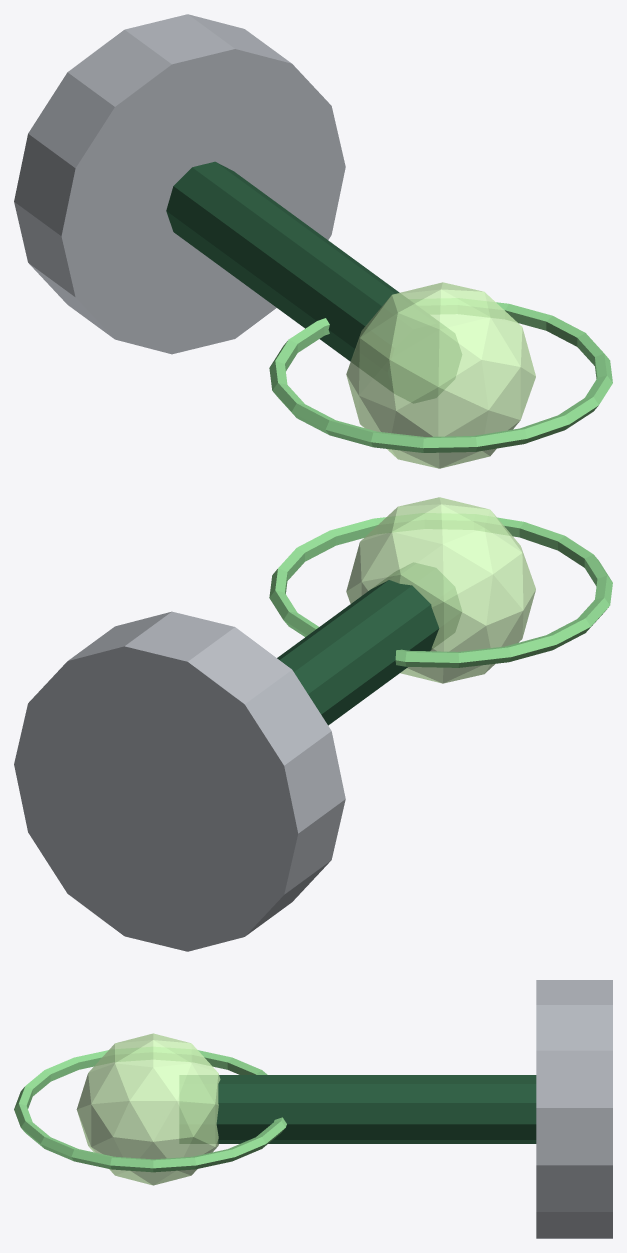
File: 03_world_landmark_light.glb
3 views of the same model, one above another, from view 1: azimuth 30°, elevation 25°; view 2: azimuth 150°, elevation 25°; view 3: azimuth 270°, elevation 25° (orthographic). The views are drawn at different scales.
Visible parts, largest first — view 1: light_base, light_column, light_core, light_halo; view 2: light_base, light_core, light_column, light_halo; view 3: light_column, light_base, light_core, light_halo.
Part boxes in pixels (x1,y1,x2,y2): light_base: (14, 14, 345, 354); light_column: (166, 161, 461, 402); light_core: (346, 282, 535, 468); light_halo: (269, 298, 612, 452); light_base: (14, 611, 345, 951); light_core: (346, 497, 535, 683); light_column: (277, 563, 461, 725); light_halo: (269, 513, 612, 667); light_column: (180, 1075, 536, 1143); light_base: (536, 980, 612, 1238); light_core: (76, 1033, 220, 1185); light_halo: (14, 1047, 286, 1172).
Size of the model in its own units: 0.8 by 0.7409 by 1.72.
